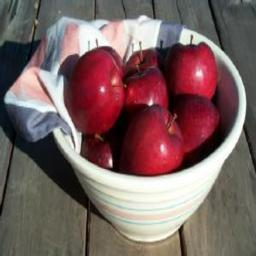apple: (67, 49, 125, 132), (121, 105, 185, 176), (165, 41, 218, 100), (177, 96, 224, 149), (125, 67, 169, 111), (125, 45, 162, 72)
